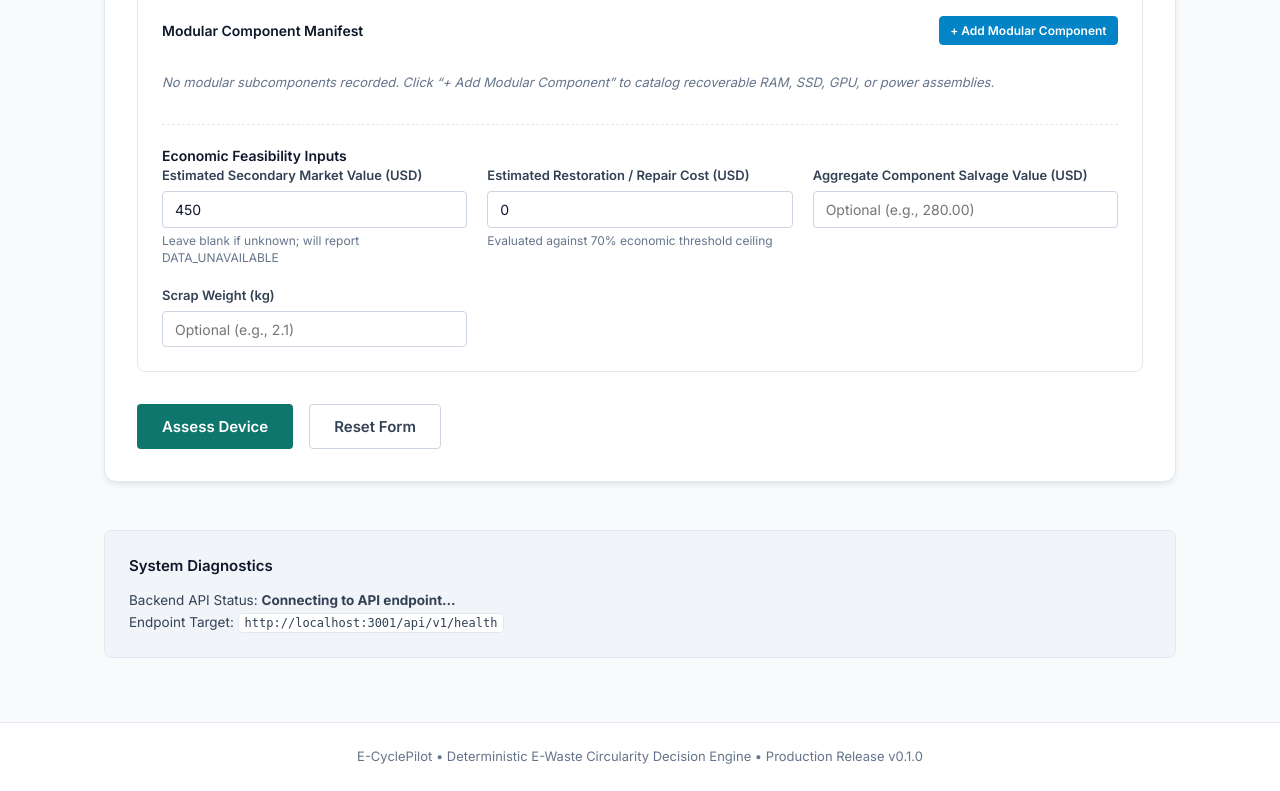
Test: E-CyclePilot Complete Frontend Application Suite › renders backend validation errors (HTTP 400) cleanly
This screenshot has width=1280, height=791.
(page scrolled)
Click the button with test id "assess-submit-btn".
click(215, 427)  # box [137, 404, 293, 449]
(page scrolled)
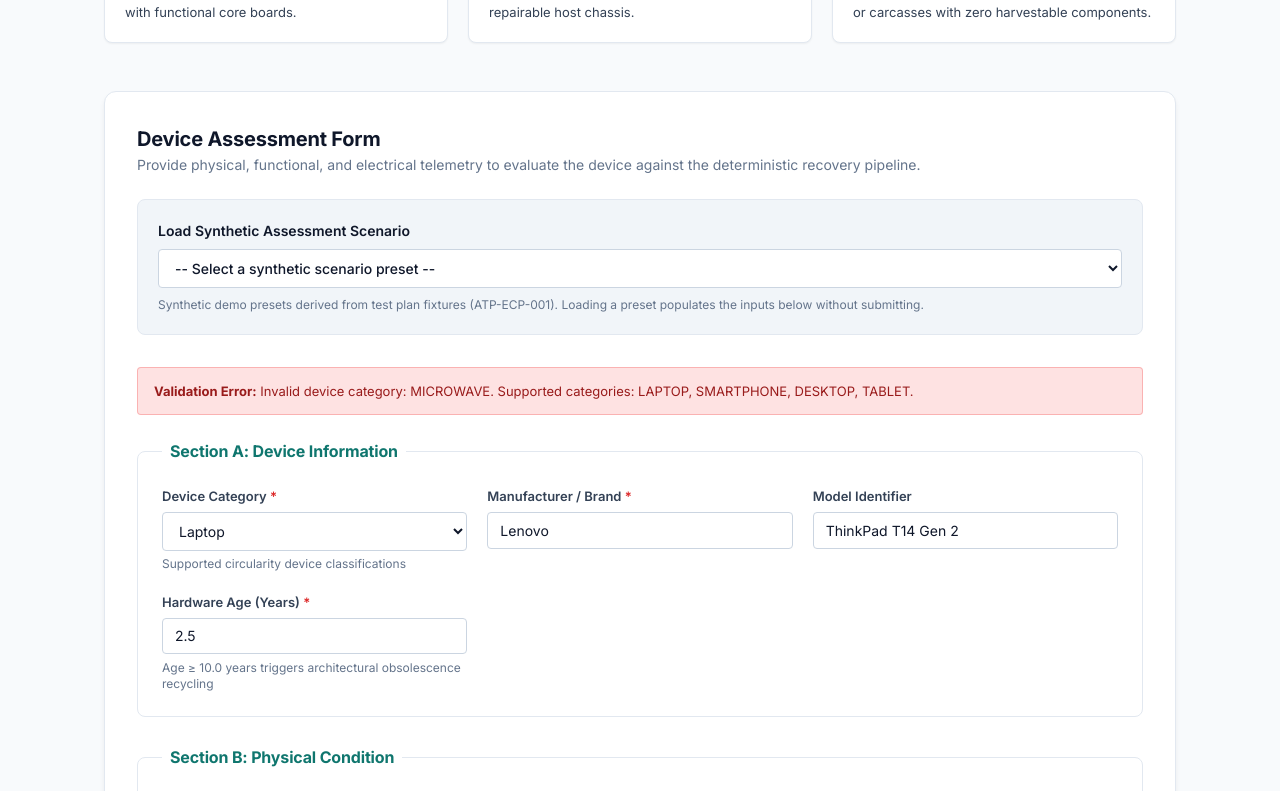
Expected: the message shows "Invalid device category: MICROWAVE", [260, 383, 914, 399]
